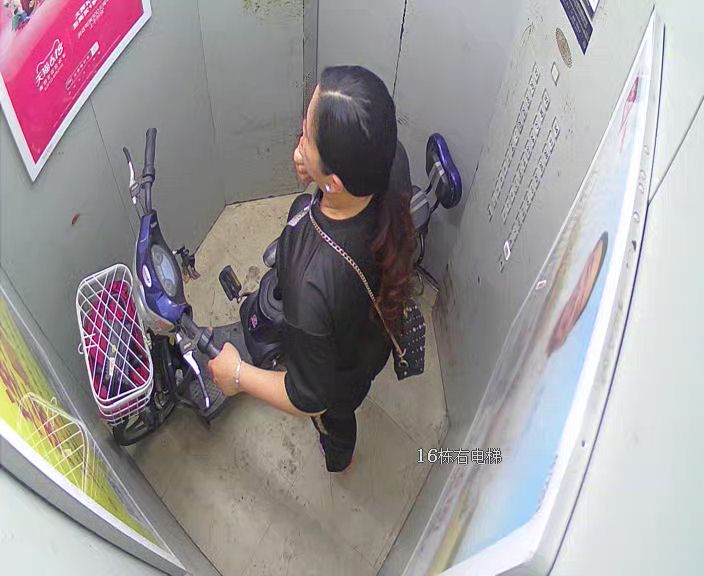Electric-bicycle: (82, 133, 466, 424)
